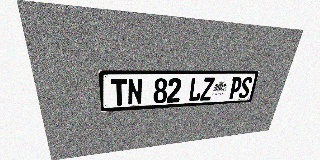2: (167, 78, 182, 103)
8: (153, 78, 168, 104)
L: (188, 78, 203, 102)
N: (127, 78, 143, 105)
P: (228, 77, 243, 99)
S: (238, 77, 253, 98)
T: (111, 79, 127, 106)
Z: (200, 77, 215, 101)
